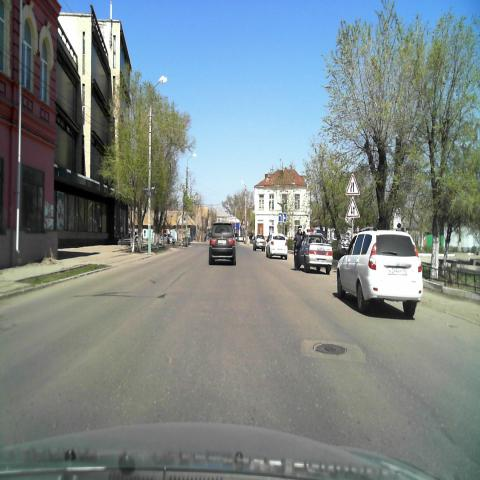1_20_3: (346, 175, 360, 195)
1_21: (346, 197, 360, 216)
